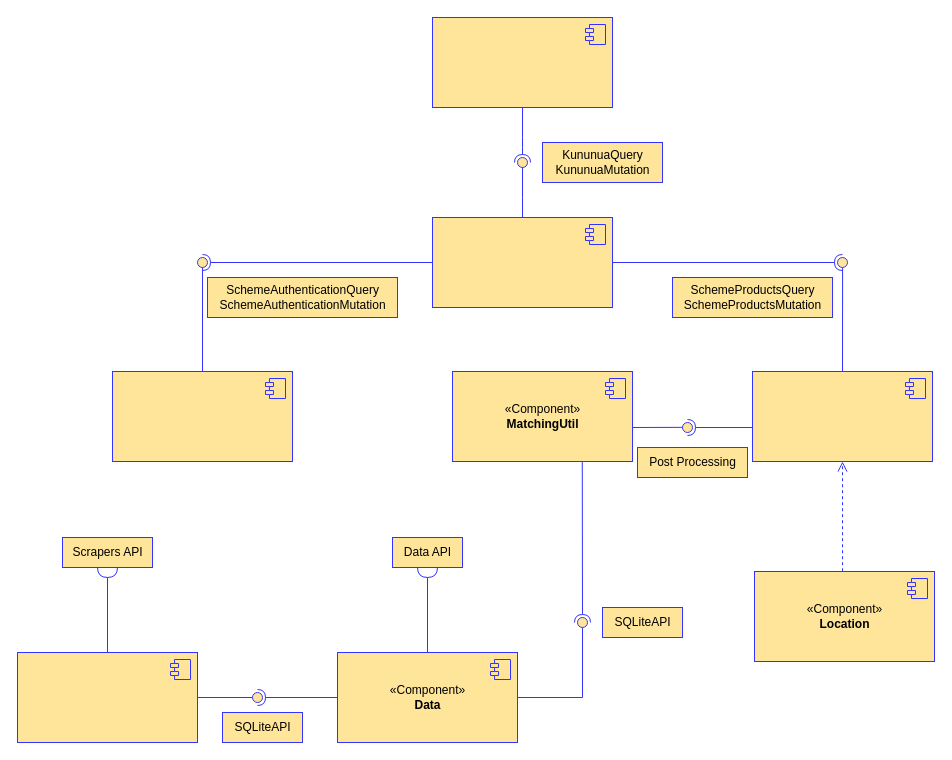
Image size: 952x760. Some labels were removed from this diagram. Each missing label, with the centre of its shape:
«Component» Authentication: point (202, 416)
«Component» Graphene Schema: point (522, 262)
«Component» Products: point (842, 416)
«Component» Scrapers: point (107, 697)
«Componet» Kununua App: point (522, 62)
